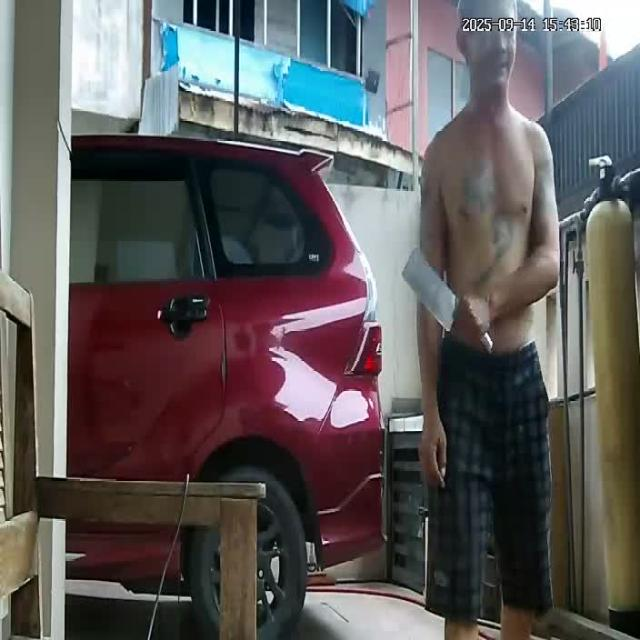senjata_tajam: (401, 246, 461, 334)
